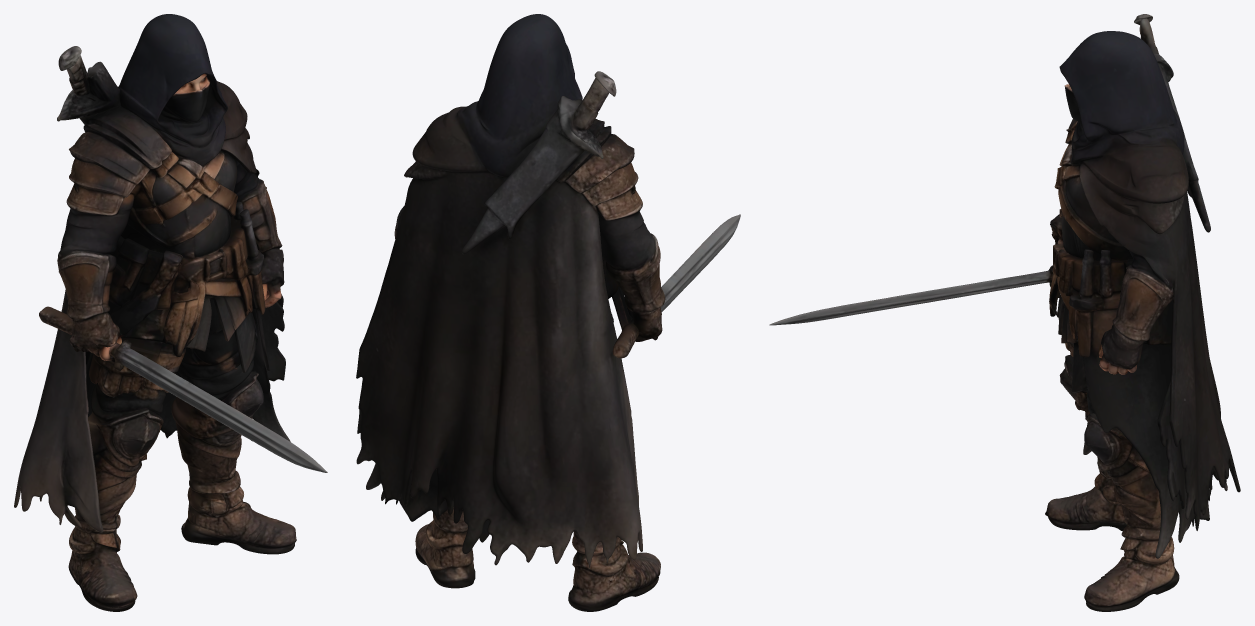
Rendered from rogue_full_male_01.glb.
3 renders of one model, left to right at view 1: azimuth 30°, elevation 25°; view 2: azimuth 150°, elevation 25°; view 3: azimuth 270°, elevation 25°, orthographic. The views are drawn at different scales.
Visible parts, largest first — view 1: material; view 2: material; view 3: material.
Boxes of the visible parts, bbox=[...] form: material: bbox=[14, 14, 327, 611]; material: bbox=[356, 14, 740, 611]; material: bbox=[769, 14, 1240, 611].
Bounding box in the file's own units: 0.5352 × 1.03 × 0.8366.
Materials: 1 (1 with a texture image).
